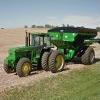Tractor: (6, 27, 82, 80)
